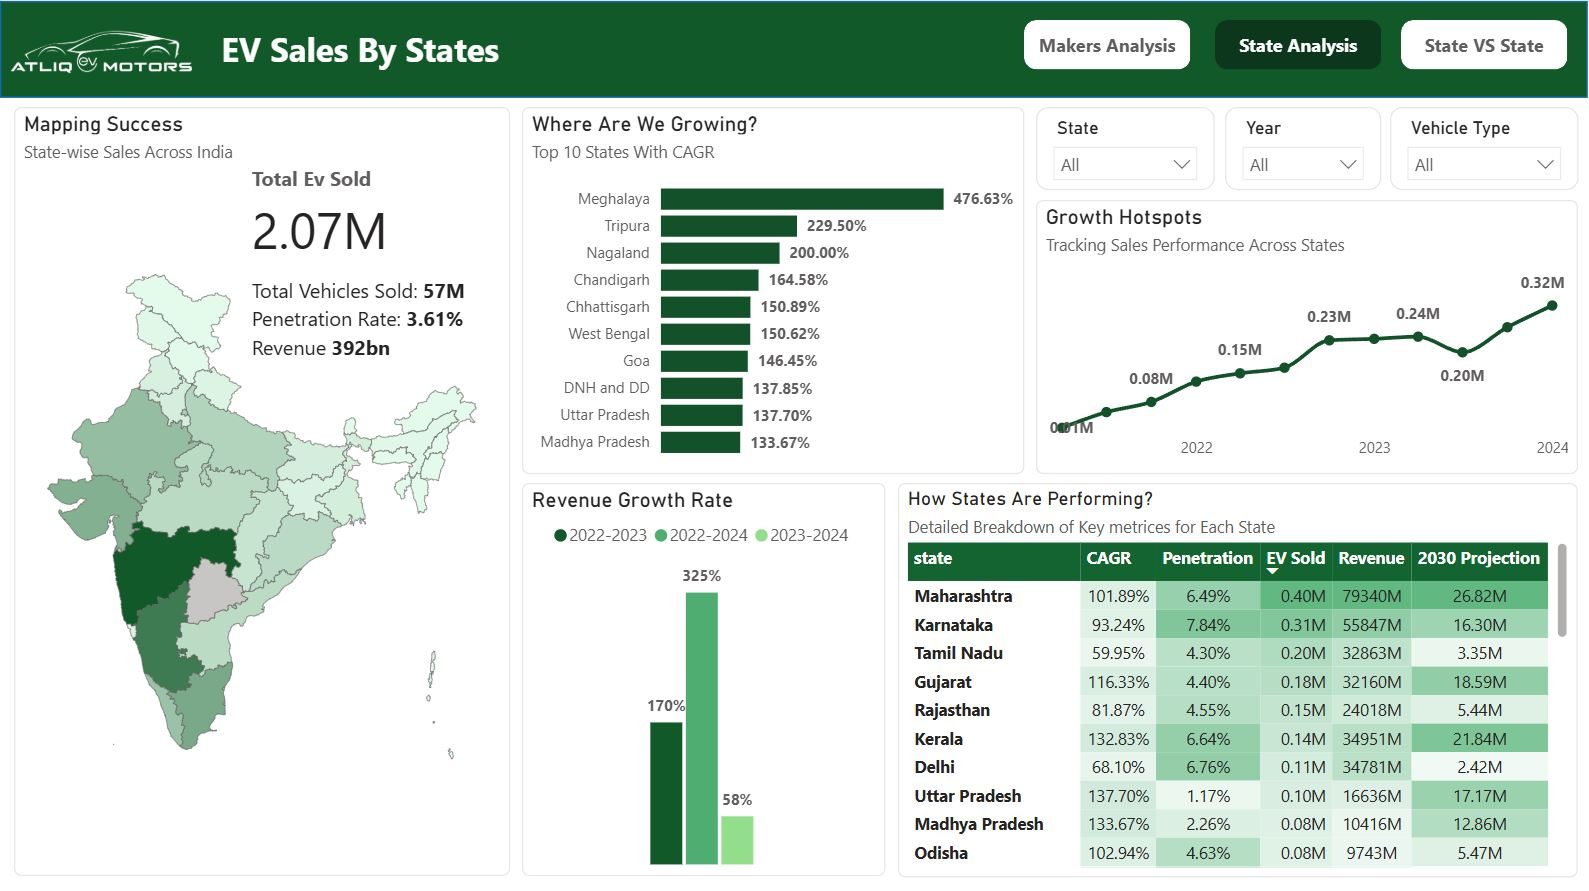

This screenshot's page, from the dashboard's own definition file:
{"tool":"powerbi","page":{"name":"States","canvas":[1280,720],"ordinal":2},"visuals":[{"type":"shape","box":[0,0,1280,77.9],"z":0},{"type":"clusteredColumnChart","title":"Revenue Growth Rate","fields":{"Y":["dim_date.rgr_2022_2023","dim_date.rgr_2022_2024","dim_date.rgr_2023_2024"]},"box":[420.6,388.9,292.9,316.9],"z":1000},{"type":"slicer","title":"Vehicle Category","fields":{"Values":["electric_vehicle_sales_by_state.vehicle_category"]},"box":[1120.5,85.5,151.8,67.3],"z":2000},{"type":"slicer","fields":{"Values":["dim_date.fiscal_year"]},"box":[987.9,85.5,125.9,67.3],"z":3000},{"type":"slicer","fields":{"Values":["electric_vehicle_sales_by_state.state"]},"box":[835.1,85.5,144.1,67.3],"z":4000},{"type":"lineChart","title":"Growth Hotspots","fields":{"Y":["Sum(electric_vehicle_sales_by_state.electric_vehicles_sold)"],"Category":["dim_date.date.Variation.Date Hierarchy.Year","dim_date.date.Variation.Date Hierarchy.Quarter","dim_date.date.Variation.Date Hierarchy.Month","dim_date.date.Variation.Date Hierarchy.Day"]},"box":[835.1,160.5,437.2,221],"z":5000},{"type":"textbox","box":[173,15.4,371.9,47.1],"z":6000},{"type":"actionButton","box":[825.8,15.6,134.2,39.9],"z":7000},{"type":"actionButton","box":[979.5,15.6,134.2,39.9],"z":8000},{"type":"actionButton","box":[1129.2,15.6,134.2,39.9],"z":9000},{"type":"shapeMap","title":"Mapping Success","fields":{"Category":["electric_vehicle_sales_by_state.state"],"Value":["Sum(electric_vehicle_sales_by_state.electric_vehicles_sold)"]},"box":[11.5,85.5,399.8,619.8],"z":10000},{"type":"cardVisual","fields":{"Data":["Sum(electric_vehicle_sales_by_state.electric_vehicles_sold)"]},"box":[192.2,119.2,212.4,182.6],"z":11000},{"type":"pivotTable","title":"How States Are Performing?","fields":{"Rows":["electric_vehicle_sales_by_state.state"],"Values":["electric_vehicle_sales_by_state.CagrByStates","dim_date.penetration_rate","Sum(electric_vehicle_sales_by_state.electric_vehicles_sold)","dim_date.Revenue","dim_date.Projected_Sales_2030"]},"box":[724,388.9,548.3,317.8],"z":12000},{"type":"barChart","title":"Where Are We Growing? ","fields":{"Category":["electric_vehicle_sales_by_state.state"],"Y":["electric_vehicle_sales_by_state.CagrByStates"]},"box":[420.9,85.5,404.6,296],"z":13000},{"type":"image","box":[0,0,165.3,85.5],"z":14000}]}

Visuals, with their boxes in screenshot pixels (x1, y1, x2, y2), scaled from the page's 1280x720 canvas onto the 1589x891 screenshot:
shape: 0:0:1588:96
"Revenue Growth Rate" clusteredColumnChart: 522:481:886:873
"Vehicle Category" slicer: 1391:106:1579:189
slicer - dim_date.fiscal_year: 1226:106:1383:189
slicer - electric_vehicle_sales_by_state.state: 1037:106:1216:189
"Growth Hotspots" lineChart: 1037:199:1579:472
textbox: 215:19:676:77
actionButton: 1025:19:1192:69
actionButton: 1216:19:1383:69
actionButton: 1402:19:1568:69
"Mapping Success" shapeMap: 14:106:511:873
cardVisual - Sum(electric_vehicle_sales_by_state.electric_vehicles_sold): 239:148:502:373
"How States Are Performing?" pivotTable: 899:481:1579:875
"Where Are We Growing? " barChart: 523:106:1025:472
image: 0:0:205:106
